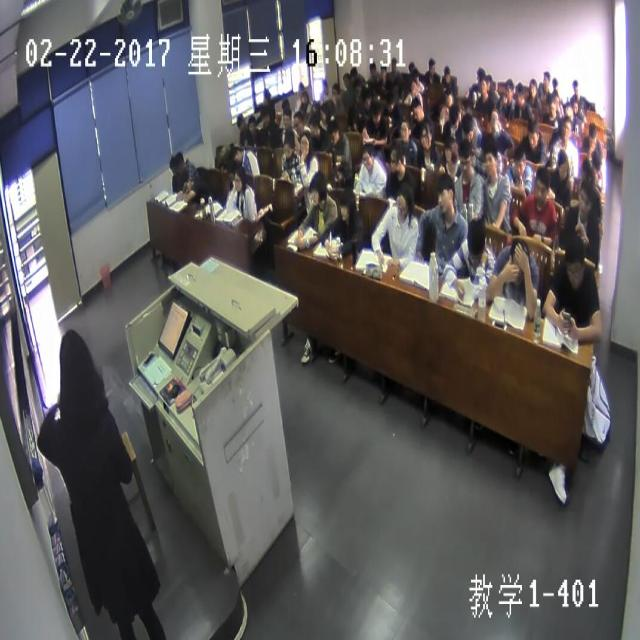person: (57, 331, 93, 401), (563, 234, 586, 288), (432, 172, 457, 220), (509, 234, 532, 286), (388, 179, 414, 223), (466, 220, 487, 267), (308, 166, 329, 207), (479, 134, 497, 178), (574, 180, 593, 218), (531, 164, 550, 201), (337, 188, 354, 222), (511, 145, 527, 179), (555, 148, 570, 183), (417, 121, 433, 152), (459, 140, 472, 176), (389, 142, 404, 172), (441, 135, 456, 165), (280, 131, 296, 159), (328, 116, 342, 147), (526, 116, 538, 150), (461, 110, 473, 141), (361, 144, 375, 170), (578, 157, 592, 183), (448, 99, 460, 129), (232, 168, 246, 193), (307, 110, 319, 139), (488, 104, 501, 129), (298, 130, 310, 157), (180, 171, 192, 197), (412, 97, 424, 123), (587, 122, 599, 147), (589, 147, 602, 170), (292, 108, 304, 132), (281, 107, 293, 130), (503, 76, 514, 101), (514, 79, 524, 106), (561, 118, 573, 140), (175, 148, 185, 174), (370, 100, 380, 126), (168, 153, 178, 178), (400, 118, 411, 140), (230, 144, 242, 164), (546, 94, 556, 118), (226, 160, 236, 182), (330, 80, 341, 100), (426, 54, 436, 75), (319, 104, 329, 124), (347, 105, 357, 125), (484, 70, 494, 90), (246, 114, 257, 132), (386, 92, 396, 111), (408, 77, 418, 96), (262, 106, 271, 127), (217, 144, 227, 162), (236, 110, 245, 130), (388, 54, 397, 74), (444, 86, 453, 106), (478, 76, 487, 96), (564, 100, 574, 118), (353, 76, 362, 95), (406, 56, 415, 75), (342, 70, 352, 87), (528, 78, 536, 99), (542, 70, 550, 91), (261, 84, 270, 102), (300, 89, 309, 107), (349, 64, 358, 82), (361, 86, 369, 106), (442, 64, 450, 84), (572, 95, 580, 114), (368, 58, 376, 76), (411, 66, 419, 84), (550, 75, 559, 91), (280, 96, 288, 112), (476, 64, 484, 80), (552, 93, 560, 108), (321, 77, 328, 94), (380, 60, 386, 78), (572, 76, 577, 93), (298, 79, 304, 93)
